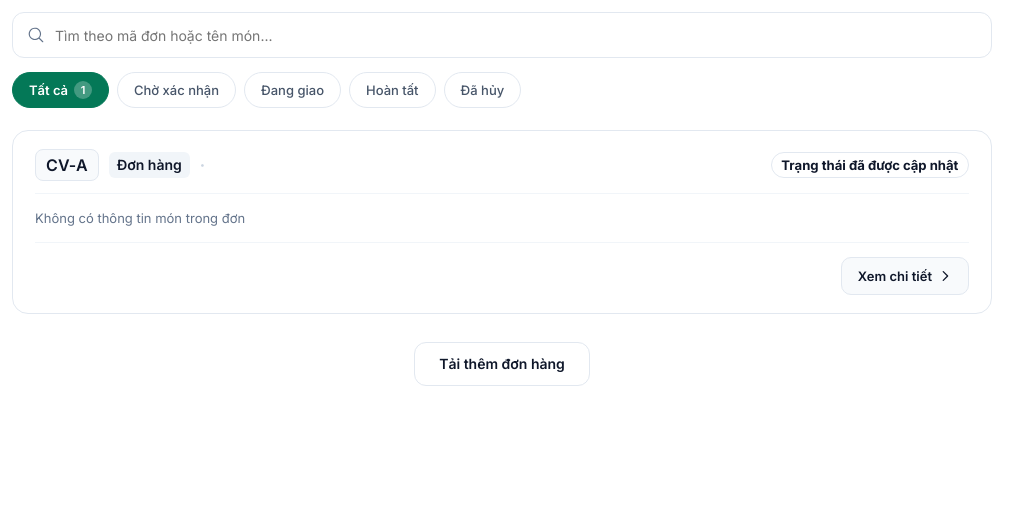
Test case: keeps loaded orders on cursor failure and retries that cursor
Click the button "Tải thêm đơn hàng" at (502,364), box 414,342 -> 590,386
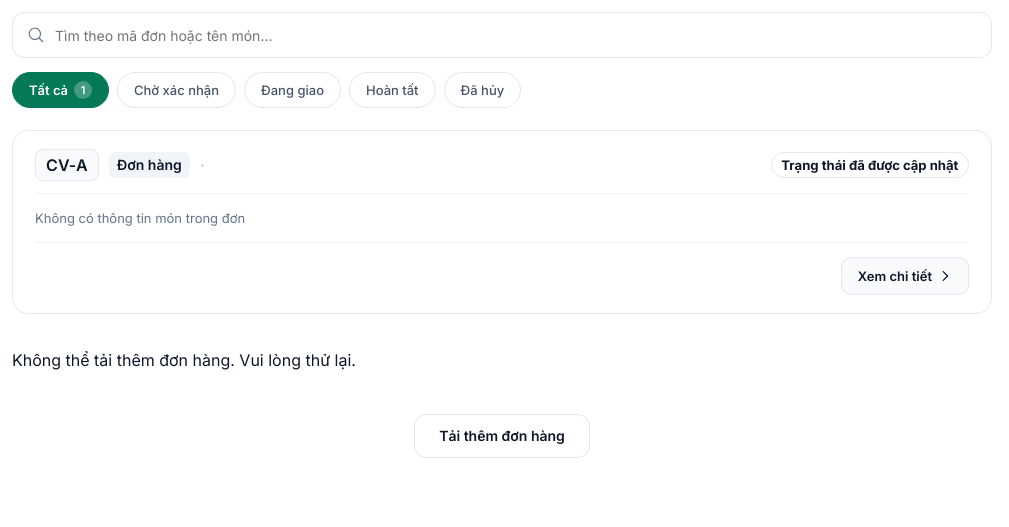
expect the message does not show "private diagnostic": met, box 12,350 -> 356,370
expect the text "CV-A" is shown: met, box 46,153 -> 88,177
Click the button "Tải thêm đơn hàng" at (502,436), box 414,414 -> 590,458
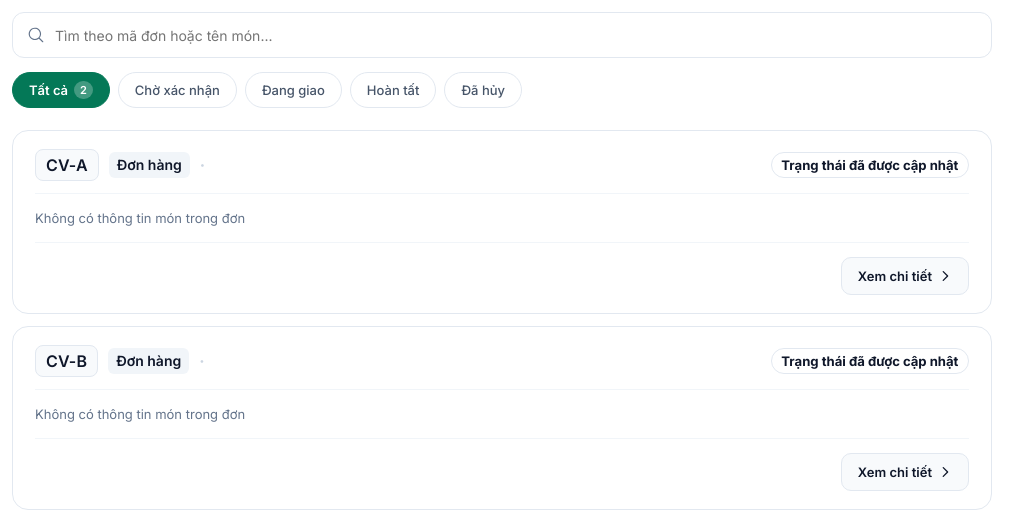
expect the text "CV-B" is shown: met, box 46,349 -> 87,373
